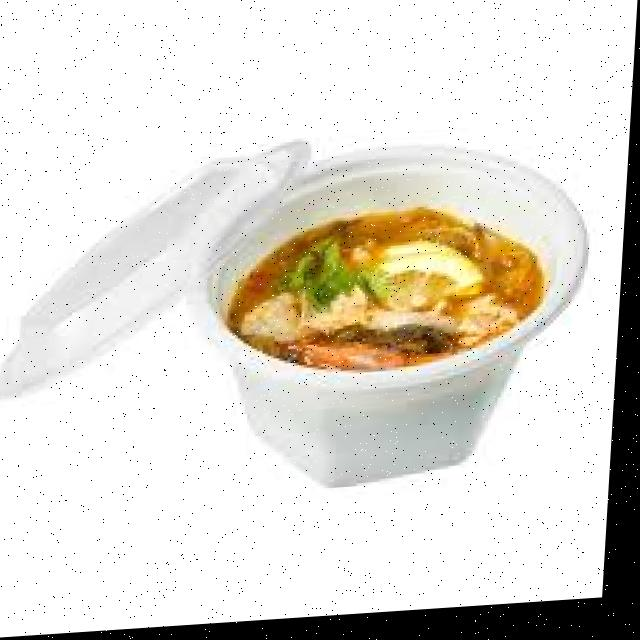disposable: (189, 132, 620, 517)
